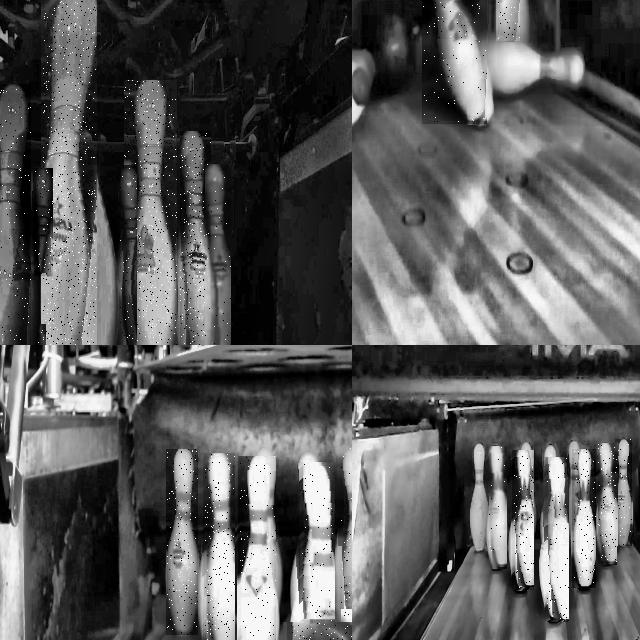bowling-pins: (43, 0, 97, 345), (124, 81, 176, 345), (0, 84, 31, 345), (180, 132, 211, 345), (240, 457, 275, 640), (435, 0, 486, 122), (167, 449, 198, 635), (302, 463, 334, 640), (205, 453, 234, 640), (205, 165, 231, 345), (547, 457, 568, 620), (573, 449, 596, 588), (120, 168, 137, 345), (514, 450, 533, 588), (598, 443, 617, 563), (489, 447, 507, 566), (469, 443, 488, 551), (341, 448, 352, 609), (616, 439, 631, 546), (35, 169, 50, 274), (521, 442, 536, 540), (565, 440, 579, 544), (498, 0, 519, 39), (38, 325, 43, 345)
